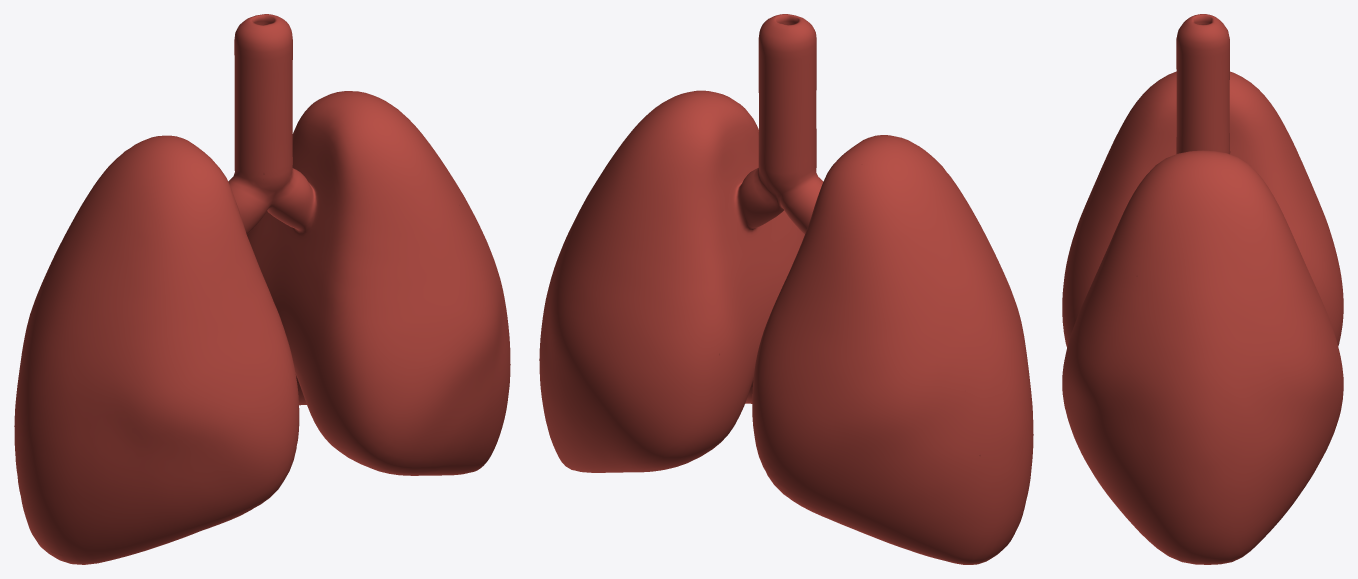
File: Lungs.fbx
3 renders of one model, left to right at view 1: azimuth 30°, elevation 25°; view 2: azimuth 150°, elevation 25°; view 3: azimuth 270°, elevation 25°, orthographic. The views are drawn at different scales.
Visible parts, largest first — view 1: model.002; view 2: model.002; view 3: model.002.
Boxes of the visible parts, bbox=[...] form: model.002: bbox=[14, 14, 510, 564]; model.002: bbox=[539, 14, 1033, 564]; model.002: bbox=[1062, 14, 1343, 564].
Size of the model in its own units: 101 by 100 by 56.45.
